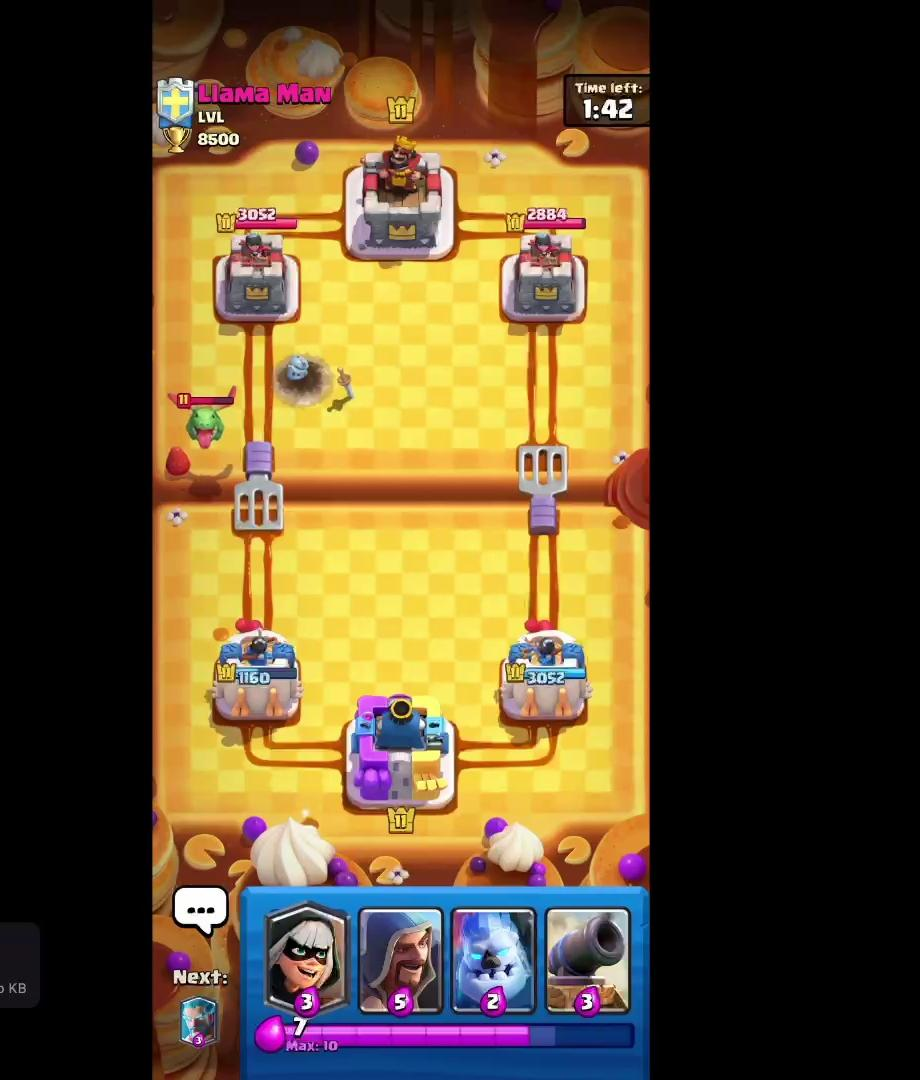Baby Dragon: (164, 380, 240, 449)
